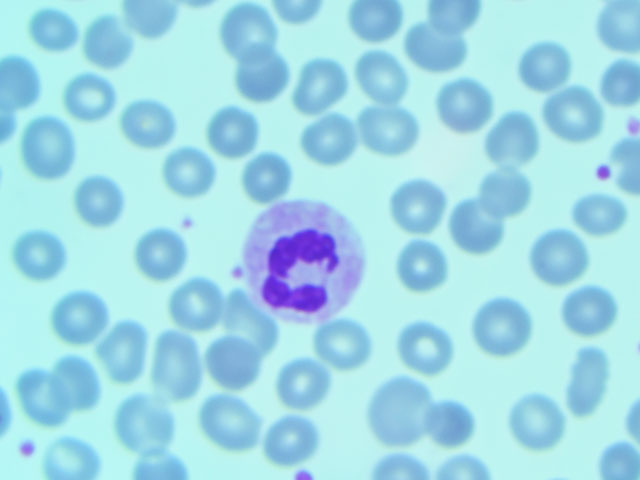Platelets: (14, 433, 40, 464), (587, 160, 617, 184), (173, 212, 201, 233), (288, 465, 317, 480), (619, 115, 640, 135)
RBC: (27, 4, 81, 55), (23, 121, 77, 172), (62, 73, 116, 124), (80, 15, 134, 66), (123, 97, 177, 148), (163, 147, 217, 198), (76, 176, 130, 227), (13, 228, 67, 279), (131, 229, 185, 280), (53, 289, 107, 340), (96, 320, 150, 371), (56, 355, 110, 406), (15, 371, 69, 422), (115, 397, 169, 448), (146, 342, 200, 393), (169, 275, 223, 326), (199, 339, 253, 390), (221, 293, 275, 344), (279, 356, 333, 407), (316, 317, 370, 368), (266, 415, 320, 466), (200, 396, 254, 447), (47, 429, 101, 480), (371, 382, 425, 433), (421, 397, 475, 448), (399, 326, 453, 377), (393, 239, 447, 290), (393, 183, 447, 234), (301, 117, 355, 168), (238, 149, 292, 200), (207, 109, 261, 160), (230, 53, 284, 104), (220, 1, 274, 52), (292, 61, 346, 112), (351, 49, 405, 100), (363, 103, 417, 154), (437, 79, 491, 130), (485, 113, 539, 164), (482, 163, 536, 214), (448, 200, 502, 251), (531, 230, 585, 281), (571, 189, 625, 240), (562, 283, 616, 334), (477, 300, 531, 351), (567, 349, 621, 400), (511, 400, 565, 451), (549, 89, 603, 140), (518, 42, 572, 93), (409, 23, 463, 74), (1, 57, 42, 112), (595, 61, 640, 108), (349, 1, 400, 42), (596, 433, 640, 480), (596, 1, 640, 47), (427, 1, 482, 26)
WBC: (242, 200, 365, 320)
